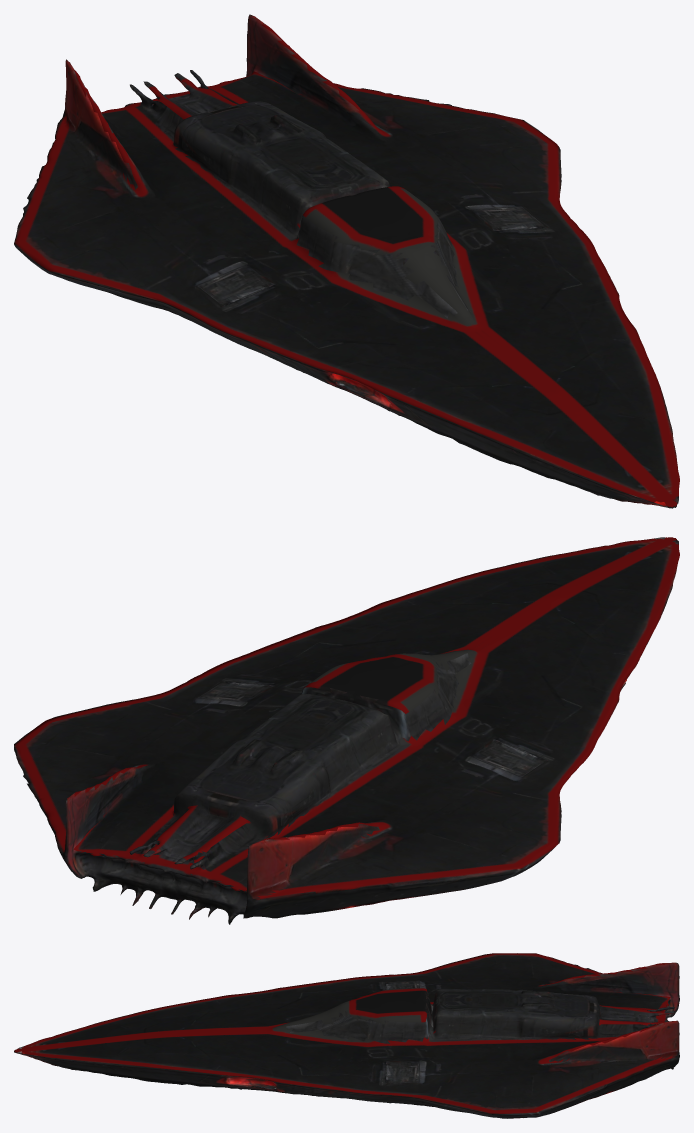
The model's file is research_vessel.glb.
3 views of the same model, one above another, from view 1: azimuth 30°, elevation 25°; view 2: azimuth 150°, elevation 25°; view 3: azimuth 270°, elevation 25° (orthographic). The views are drawn at different scales.
Visible parts, largest first — view 1: Mesh_0; view 2: Mesh_0; view 3: Mesh_0.
Part boxes in pixels (box(x1,y1,x2,y2)): Mesh_0: box(14, 14, 679, 508); Mesh_0: box(14, 537, 679, 924); Mesh_0: box(14, 953, 679, 1118).
Size of the model in its own units: 49.93 by 12 by 87.32.
1 material, 1 textured.
